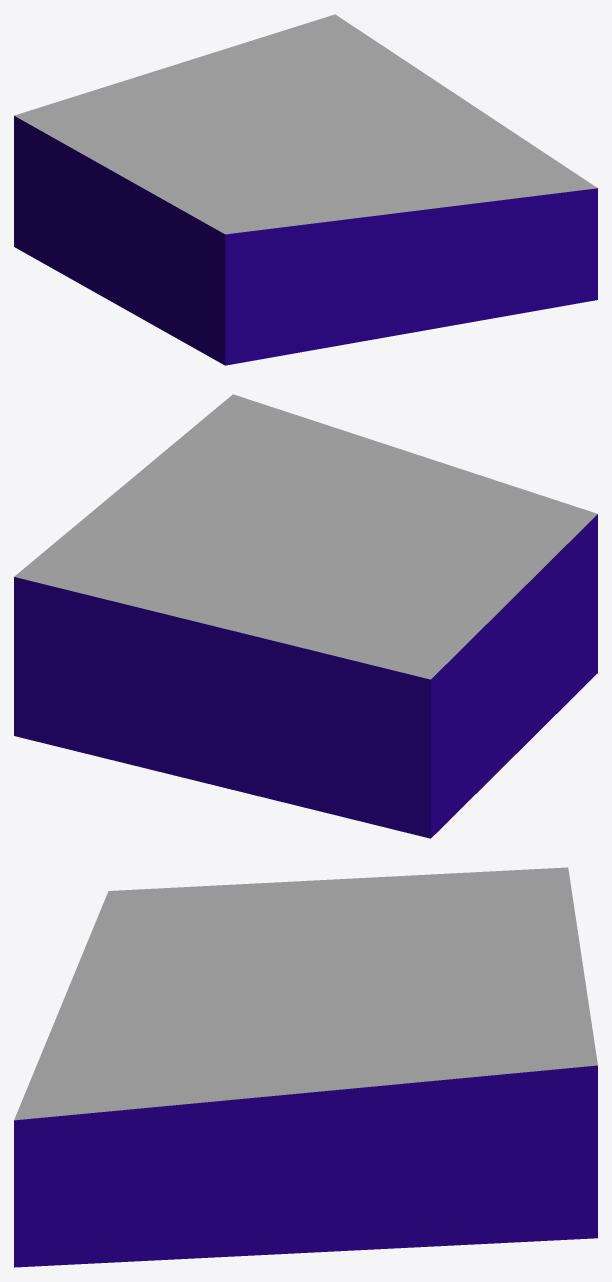
Rendered from Shard_S_4_N_1.fbx.
3 renders of one model, top to bottom at view 1: azimuth 30°, elevation 25°; view 2: azimuth 150°, elevation 25°; view 3: azimuth 270°, elevation 25°, orthographic. The views are drawn at different scales.
Parts seen in each view (by area): view 1: pCube1; view 2: pCube1; view 3: pCube1.
Boxes of the visible parts, x1,y1,x2,y2 form: pCube1: (14, 14, 597, 365); pCube1: (14, 394, 597, 838); pCube1: (14, 867, 597, 1267).
Size of the model in its own units: 2.35 by 0.8615 by 2.42.
